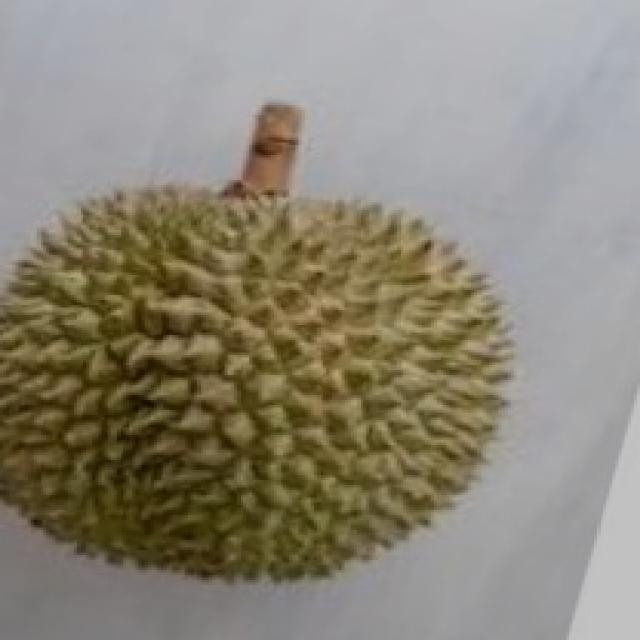fruit: (203, 207, 594, 635), (0, 260, 363, 630)
